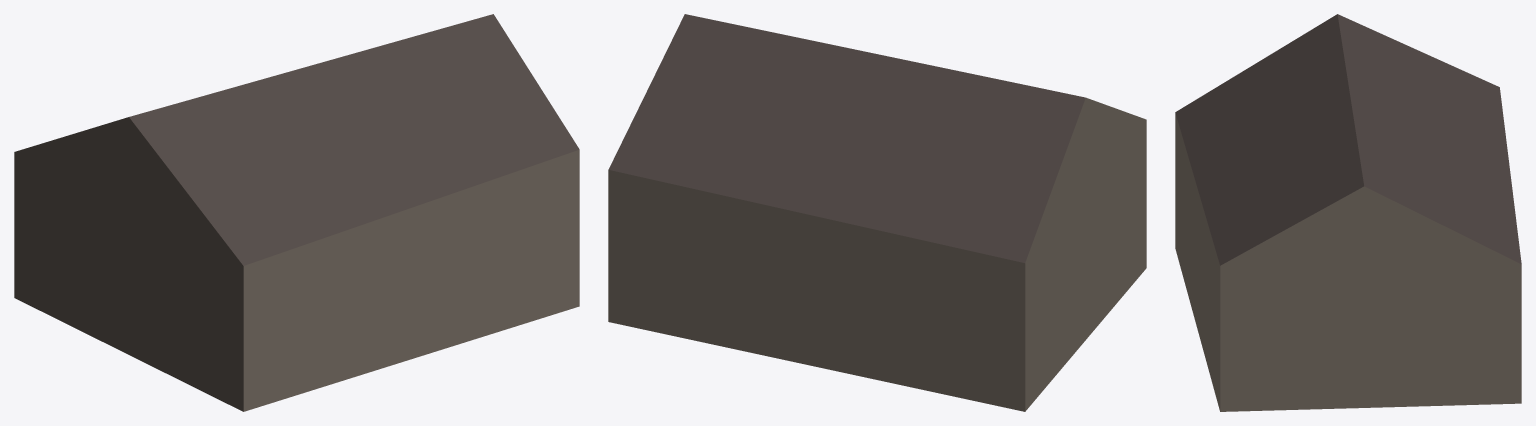
3 views of the same model, side by side, from view 1: azimuth 30°, elevation 25°; view 2: azimuth 150°, elevation 25°; view 3: azimuth 270°, elevation 25° (orthographic). The views are drawn at different scales.
Parts seen in each view (by area): view 1: HP-w1512911262; view 2: HP-w1512911262; view 3: HP-w1512911262.
Part boxes in pixels (x1,y1,x2,y2): HP-w1512911262: [14, 14, 579, 411]; HP-w1512911262: [608, 14, 1146, 411]; HP-w1512911262: [1175, 14, 1521, 411].
Size of the model in its own units: 17.88 by 9.78 by 13.86.
